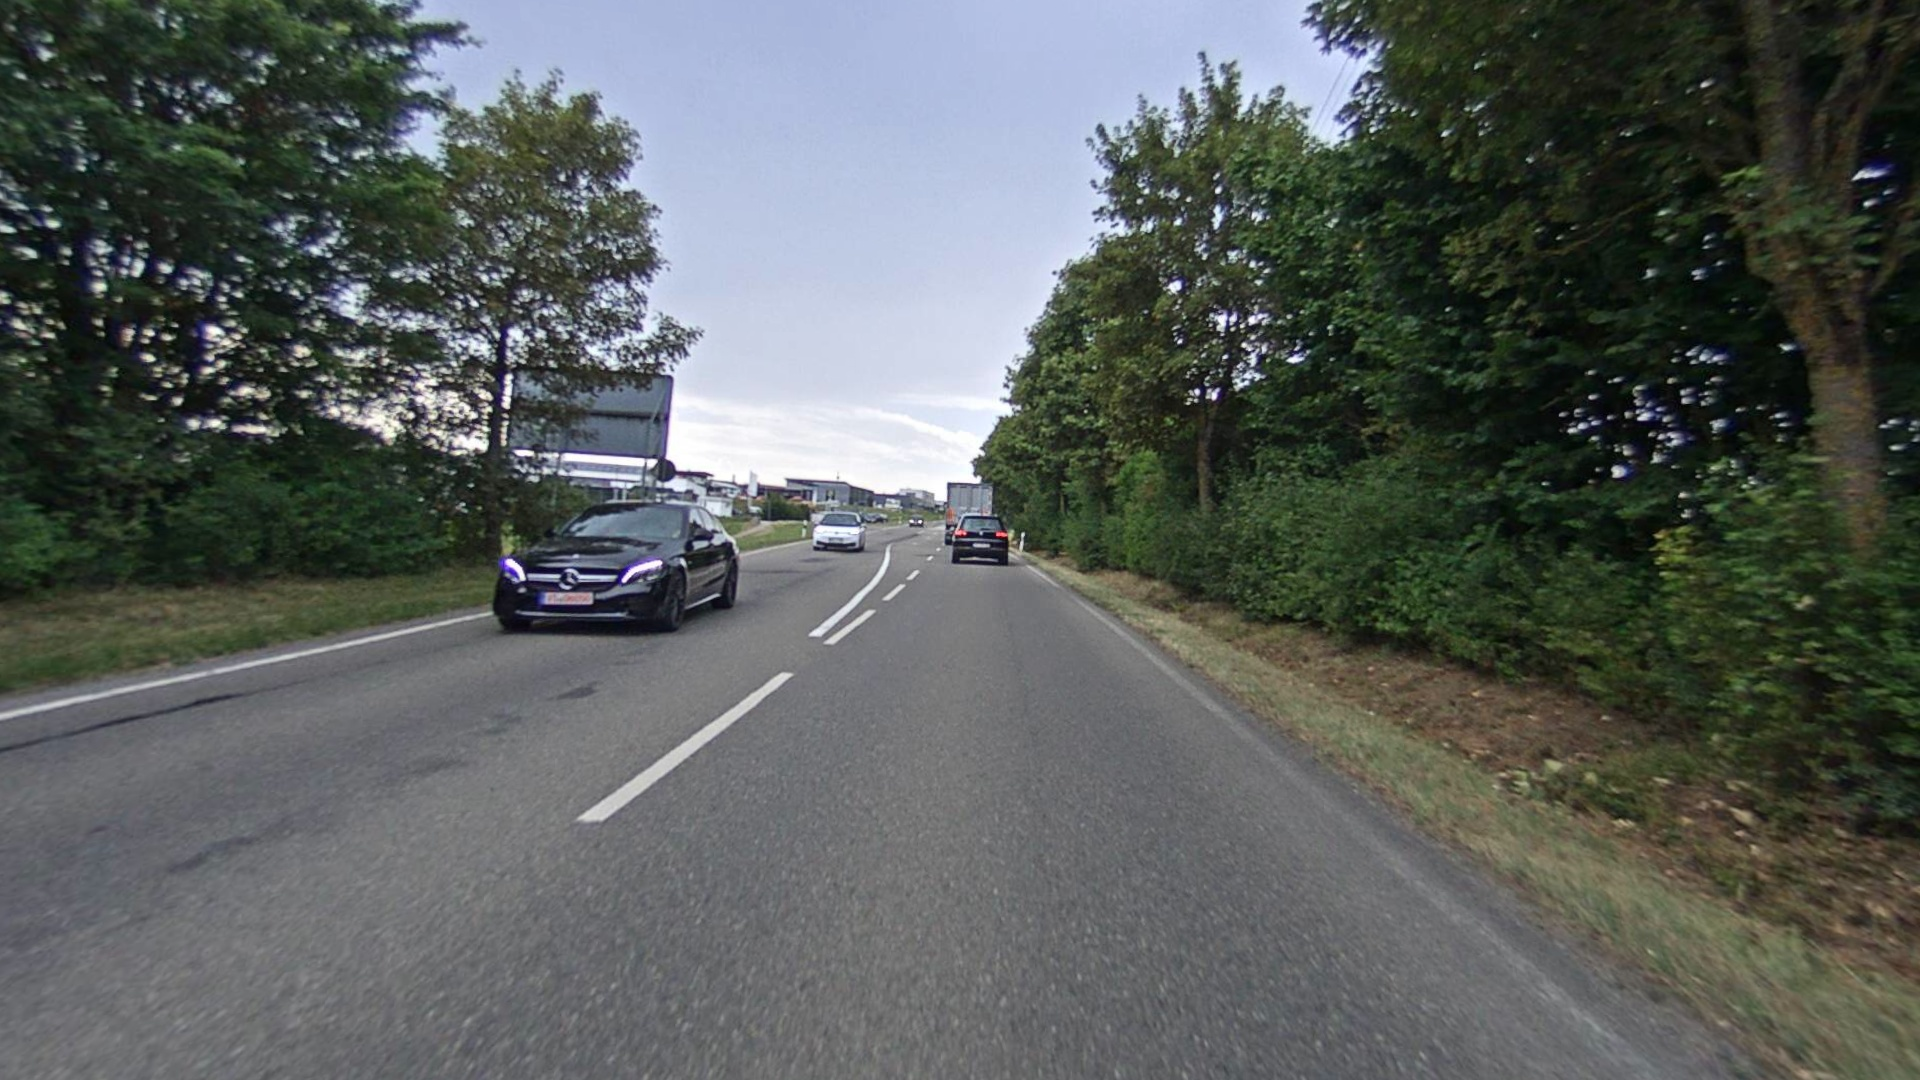car: (489, 498, 742, 636)
